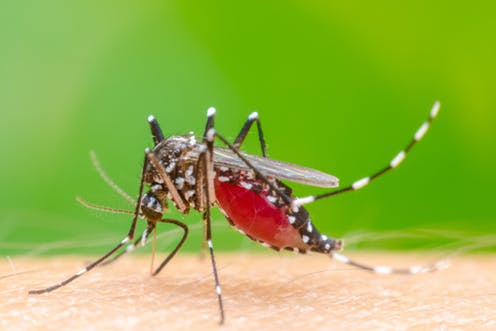mosquito: (26, 96, 458, 320)
